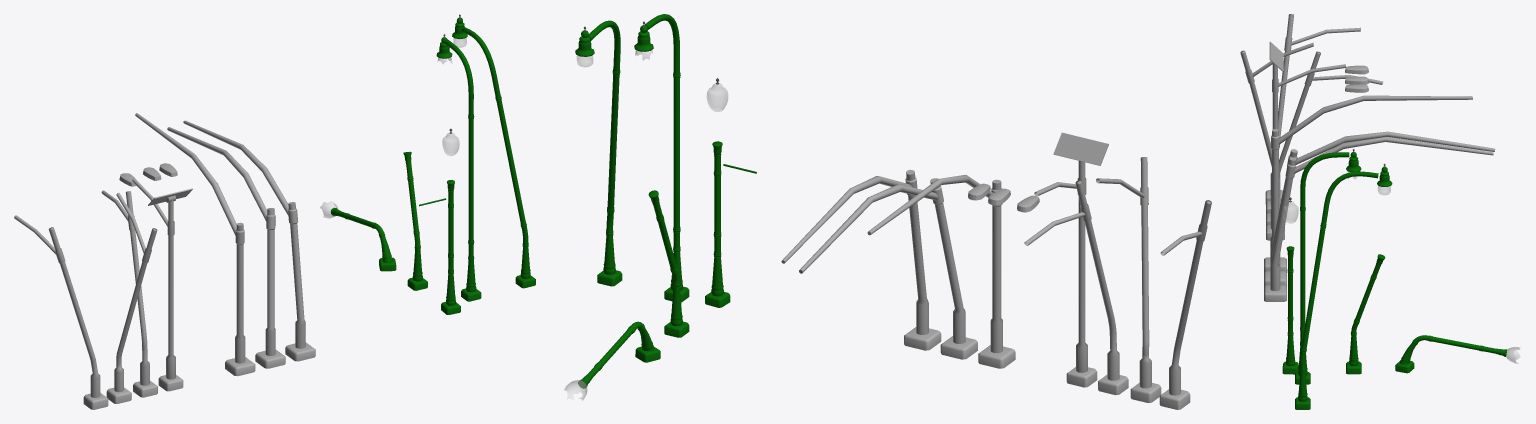
File: Lamps.fbx
3 renders of one model, left to right at view 1: azimuth 30°, elevation 25°; view 2: azimuth 150°, elevation 25°; view 3: azimuth 270°, elevation 25°, orthographic. The views are drawn at different scales.
Visible parts, largest first — view 1: TrafficLightPole3, TrafficLightPole1, TrafficLightPole2, StreetLampBentLong1, StreetLampStraightLong1, StreetLightPole4, StreetLightPole1, StreetLightPole3, StreetLightPole2, polySurface31, polySurface29, StreetLampBent1; view 2: TrafficLightPole2, TrafficLightPole1, TrafficLightPole3, StreetLampBentLong1, StreetLampStraightLong1, StreetLightPole3, StreetLightPole2, StreetLightPole4, StreetLightPole1, polySurface29, polySurface31, polySurface25 (+4 smaller); view 3: TrafficLightPole1, TrafficLightPole3, StreetLampBentLong1, StreetLampStraightLong1, TrafficLightPole2, StreetLightPole4, StreetLightPole3, polySurface31, StreetLightPole2, polySurface29, StreetLampBent1, StreetLightPole1 (+3 smaller).
Part boxes in pixels (bbox=[...]): TrafficLightPole3: bbox=[135, 113, 245, 363]; TrafficLightPole1: bbox=[183, 120, 305, 348]; TrafficLightPole2: bbox=[167, 127, 275, 355]; StreetLampBentLong1: bbox=[461, 27, 535, 288]; StreetLampStraightLong1: bbox=[444, 39, 481, 301]; StreetLightPole4: bbox=[14, 215, 100, 397]; StreetLightPole1: bbox=[132, 178, 175, 379]; StreetLightPole3: bbox=[114, 192, 157, 392]; StreetLightPole2: bbox=[101, 190, 149, 385]; polySurface31: bbox=[403, 151, 427, 290]; polySurface29: bbox=[441, 180, 460, 314]; StreetLampBent1: bbox=[330, 207, 392, 262]; TrafficLightPole2: bbox=[799, 178, 965, 343]; TrafficLightPole1: bbox=[781, 169, 928, 334]; TrafficLightPole3: bbox=[867, 175, 1002, 353]; StreetLampBentLong1: bbox=[588, 20, 622, 286]; StreetLampStraightLong1: bbox=[645, 14, 689, 302]; StreetLightPole3: bbox=[1096, 157, 1151, 388]; StreetLightPole2: bbox=[1024, 180, 1119, 380]; StreetLightPole4: bbox=[1160, 200, 1211, 395]; StreetLightPole1: bbox=[1034, 161, 1087, 372]; polySurface29: bbox=[705, 141, 730, 307]; polySurface31: bbox=[648, 190, 689, 337]; polySurface25: bbox=[1053, 132, 1108, 165]; TrafficLightPole1: bbox=[1270, 137, 1493, 290]; TrafficLightPole3: bbox=[1270, 95, 1472, 251]; StreetLampBentLong1: bbox=[1295, 171, 1378, 409]; StreetLampStraightLong1: bbox=[1295, 152, 1349, 384]; TrafficLightPole2: bbox=[1270, 131, 1495, 265]; StreetLightPole4: bbox=[1270, 14, 1360, 184]; StreetLightPole3: bbox=[1240, 43, 1313, 203]; polySurface31: bbox=[1346, 254, 1385, 374]; StreetLightPole2: bbox=[1271, 51, 1383, 207]; polySurface29: bbox=[1282, 246, 1298, 374]; StreetLampBent1: bbox=[1399, 335, 1507, 364]; StreetLightPole1: bbox=[1270, 63, 1345, 229].
Size of the model in its own units: 52.33 by 25.18 by 27.33.
